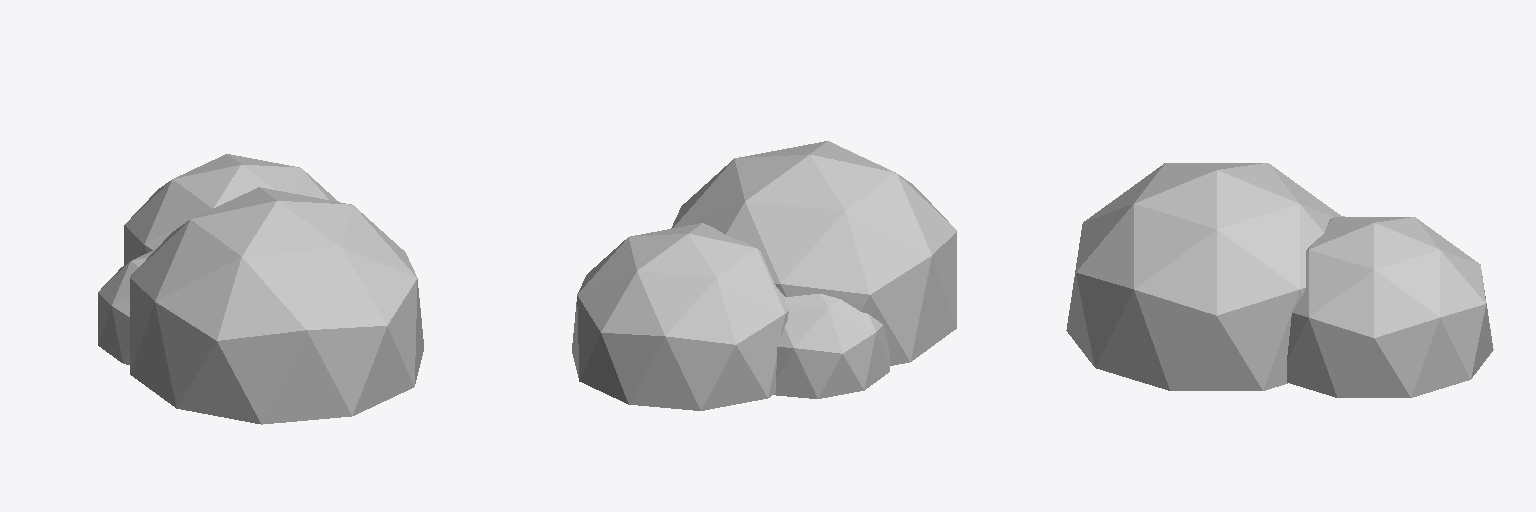
File: bushes.obj
The picture shows the model from 3 angles: view 1: azimuth 30°, elevation 25°; view 2: azimuth 150°, elevation 25°; view 3: azimuth 270°, elevation 25°; orthographic projection.
Parts seen in each view (by area): view 1: Icosphere; view 2: Icosphere; view 3: Icosphere.
Boxes of the visible parts, <box> form: Icosphere: <box>98,154,423,424</box>; Icosphere: <box>572,141,956,410</box>; Icosphere: <box>1066,163,1493,397</box>.
Bounding box in the file's own units: 1.87 × 1.08 × 2.58.